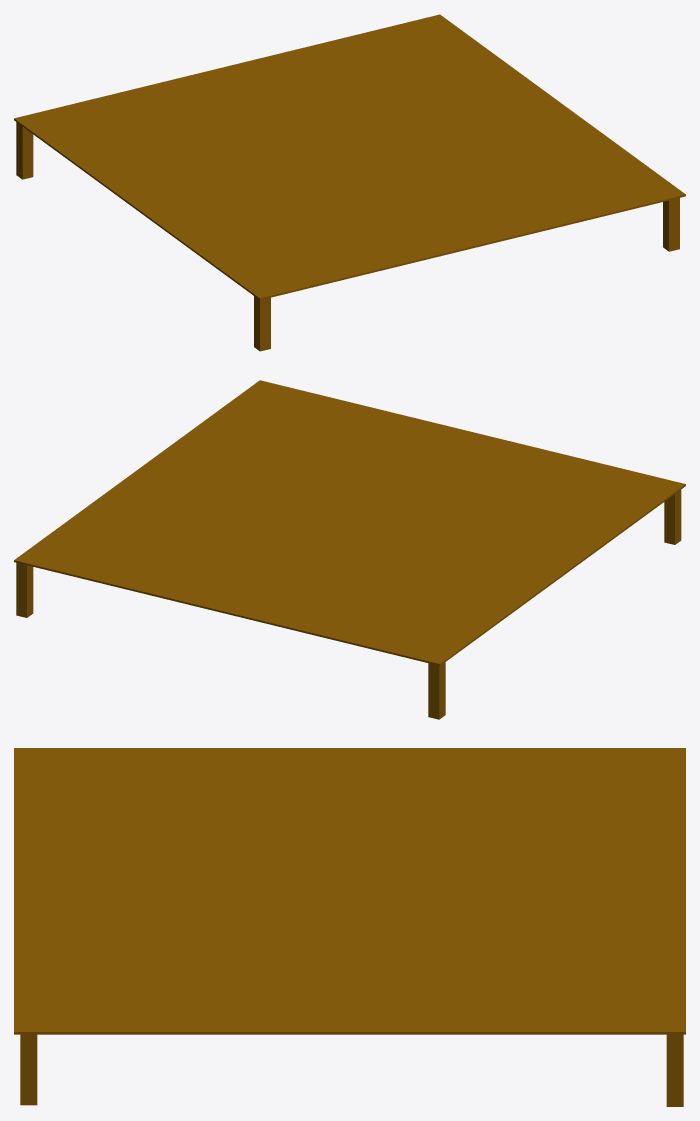
The model's file is table.dae.
3 renders of one model, top to bottom at view 1: azimuth 30°, elevation 25°; view 2: azimuth 150°, elevation 25°; view 3: azimuth 270°, elevation 25°, orthographic. The views are drawn at different scales.
Parts seen in each view (by area): view 1: Cube, Cube_001, Cube_003, Cube_002; view 2: Cube, Cube_001, Cube_004, Cube_003; view 3: Cube, Cube_004, Cube_002.
Part boxes in pixels (bbox=[...]): Cube: bbox=[14, 14, 685, 300]; Cube_001: bbox=[16, 122, 33, 179]; Cube_003: bbox=[254, 296, 270, 351]; Cube_002: bbox=[663, 198, 679, 251]; Cube: bbox=[14, 380, 685, 665]; Cube_001: bbox=[428, 662, 445, 719]; Cube_004: bbox=[16, 562, 33, 617]; Cube_003: bbox=[664, 490, 681, 544]; Cube: bbox=[14, 748, 685, 1034]; Cube_004: bbox=[666, 1034, 683, 1106]; Cube_002: bbox=[20, 1034, 37, 1105].
Size of the model in its own units: 6 by 6 by 0.761.
